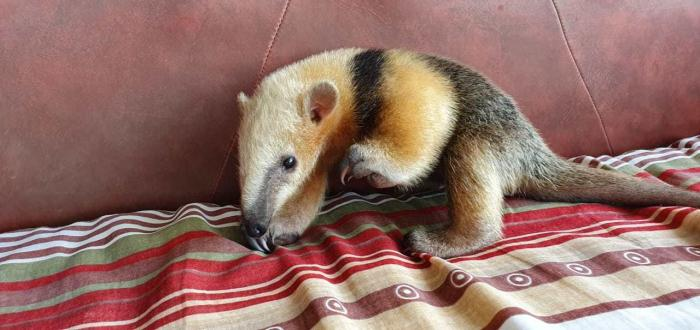TamanduaBandeira: (228, 41, 697, 266)
